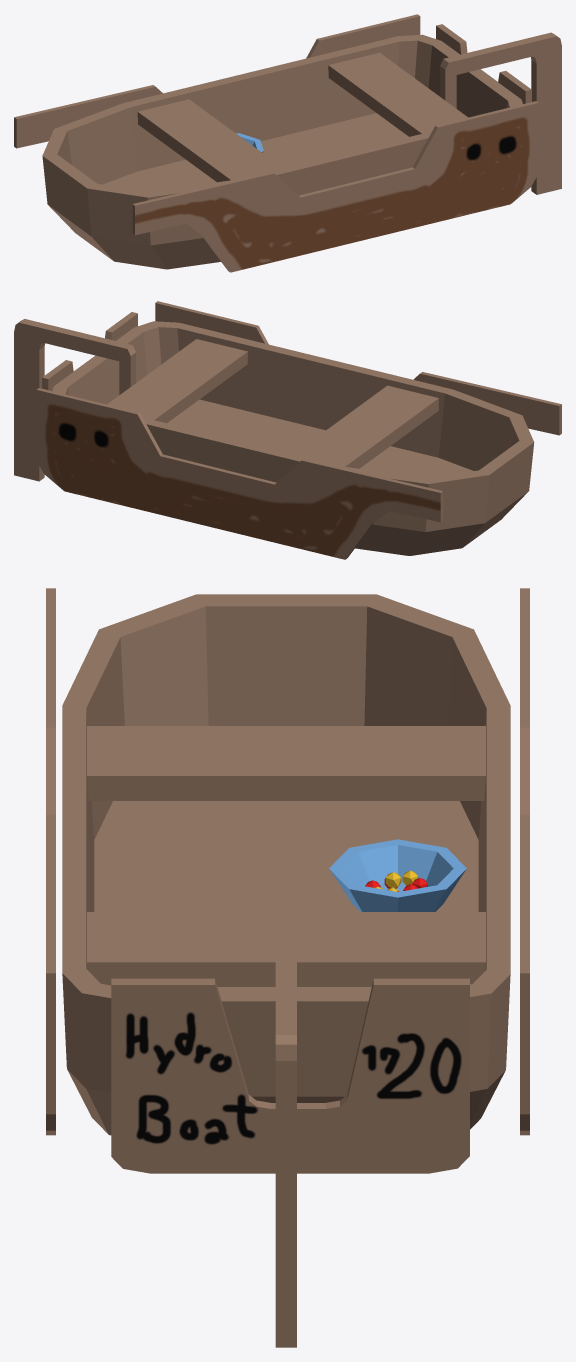
File: Boat.fbx
3 views of the same model, one above another, from view 1: azimuth 30°, elevation 25°; view 2: azimuth 150°, elevation 25°; view 3: azimuth 270°, elevation 25° (orthographic). The views are drawn at different scales.
Visible parts, largest first — view 1: Boat, Paddle; view 2: Boat, Paddle; view 3: Boat, Paddle, Candy.
Part boxes in pixels (x1,y1,x2,y2): Boat: (14,14,538,272); Paddle: (440,32,561,194); Boat: (36,301,561,559); Paddle: (14,319,135,481); Boat: (46,588,529,1173); Paddle: (275,929,296,1347); Candy: (329,839,466,911).
Size of the model in its own units: 19.06 by 5.66 by 8.08.
